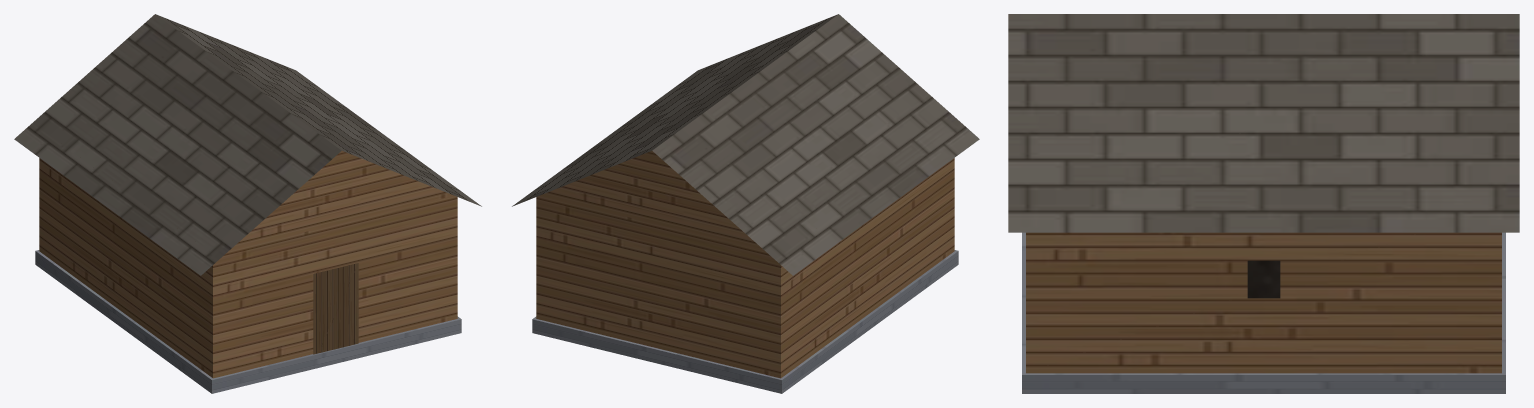
The model's file is ae_snow_wood_large_barn_lod2.glb.
3 views of the same model, side by side, from view 1: azimuth 30°, elevation 25°; view 2: azimuth 150°, elevation 25°; view 3: azimuth 270°, elevation 25° (orthographic). The views are drawn at different scales.
Visible parts, largest first — view 1: ae_snow_wood_large_barn_lod2; view 2: ae_snow_wood_large_barn_lod2; view 3: ae_snow_wood_large_barn_lod2.
Part boxes in pixels (x1,y1,x2,y2): ae_snow_wood_large_barn_lod2: (14, 14, 481, 393); ae_snow_wood_large_barn_lod2: (512, 14, 979, 393); ae_snow_wood_large_barn_lod2: (1008, 14, 1519, 393).
Bounding box in the file's own units: 7.5 × 5.5 × 8.6.
Materials: 1 (1 with a texture image).
